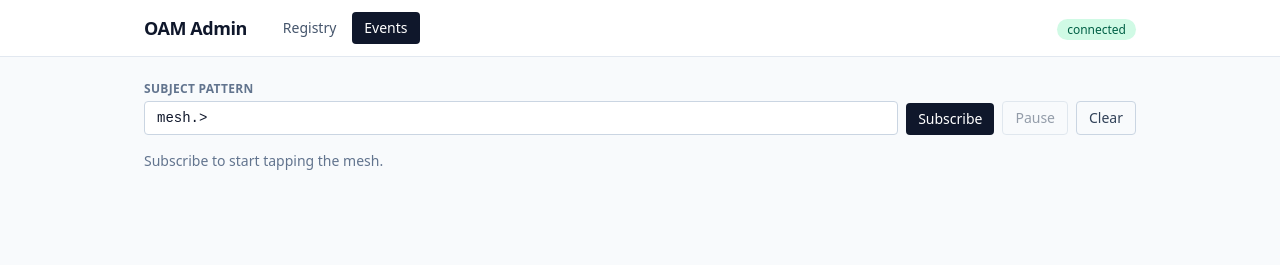
it: event feed screen › clear empties the feed
The image size is (1280, 265).
Click the button "Subscribe": (950, 119) left=906, top=103, right=994, bottom=135
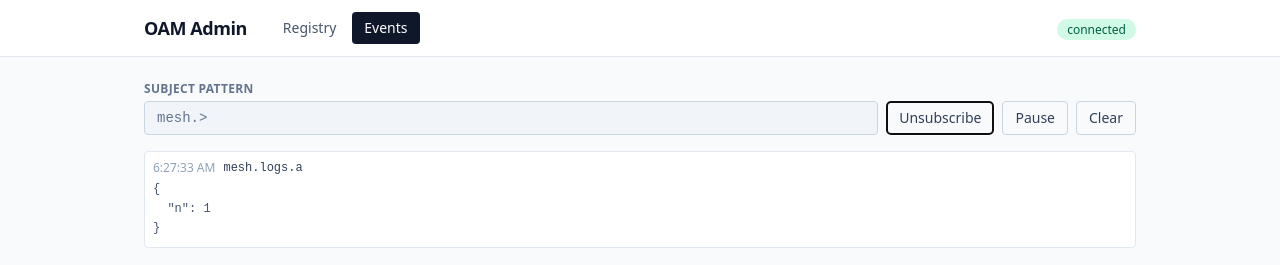
Expected: the text "mesh.logs.a" is shown, left=223, top=160, right=303, bottom=176
Click the button "Clear": (1106, 118) left=1076, top=101, right=1136, bottom=135
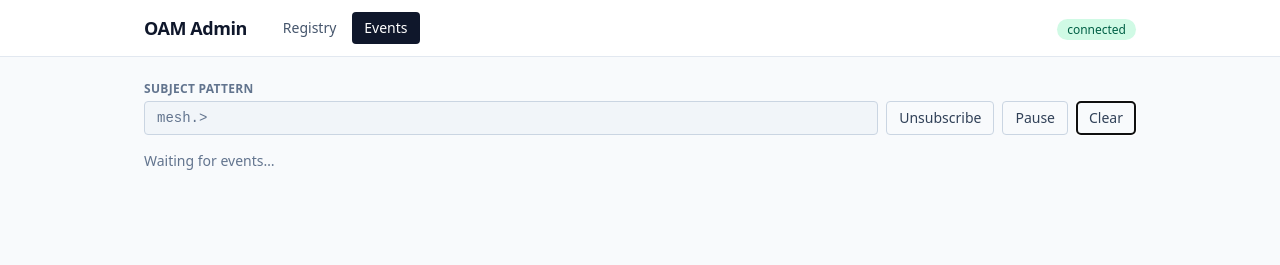
Expected: the text "mesh.logs.a" is gone
